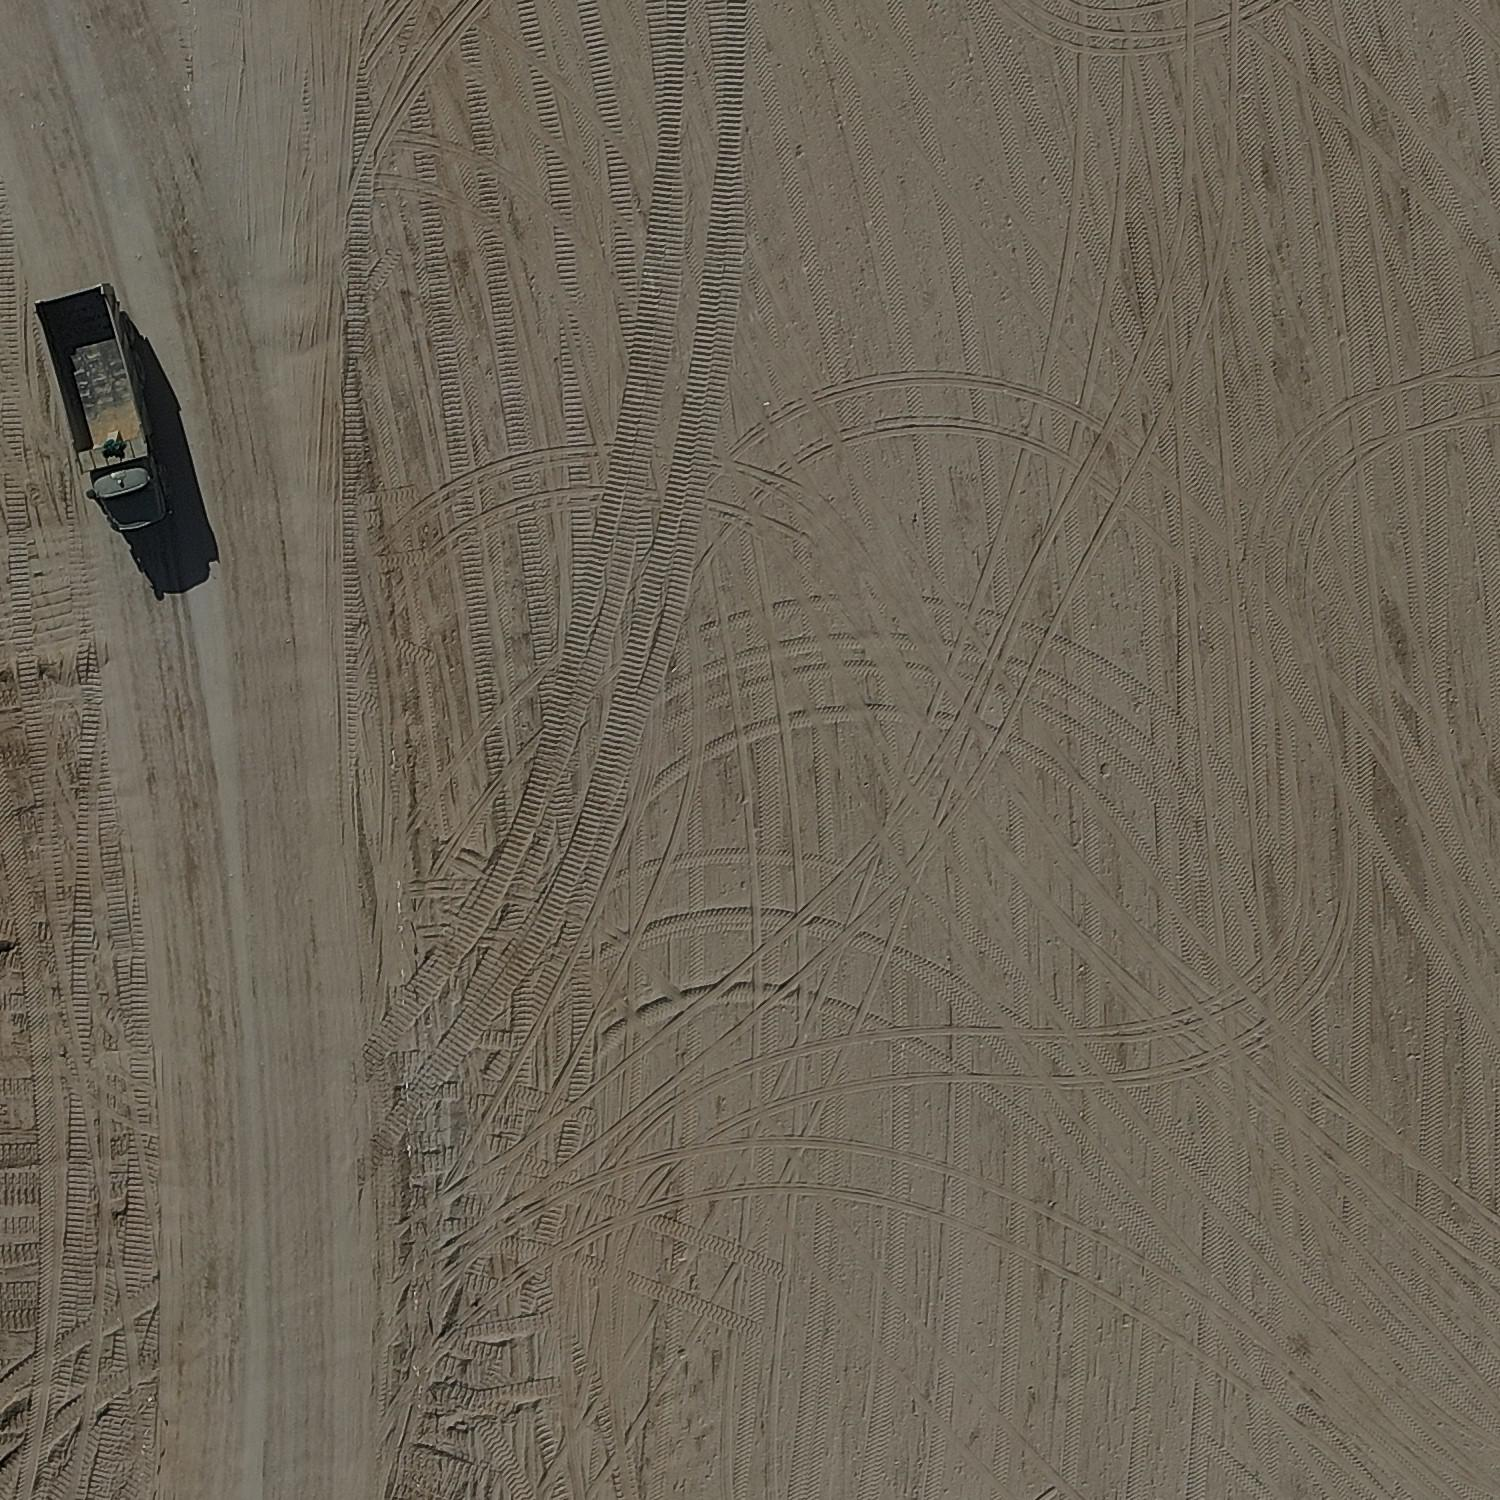empty-truck: (2, 275, 231, 580)
